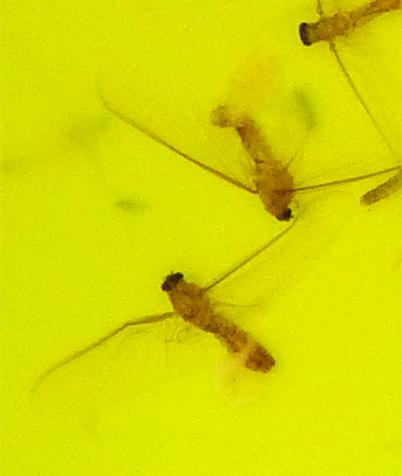Ephemeroptera: (100, 267, 276, 376), (203, 100, 302, 227), (297, 1, 402, 49)
